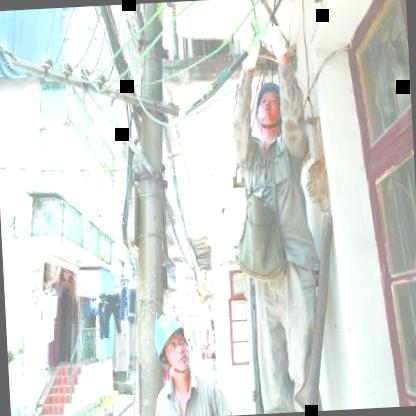helmet: (150, 306, 192, 387), (254, 78, 284, 141)
